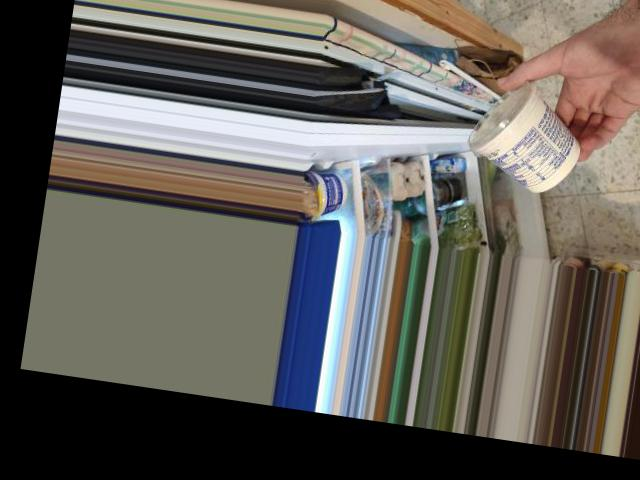cotage: (458, 74, 593, 185)
